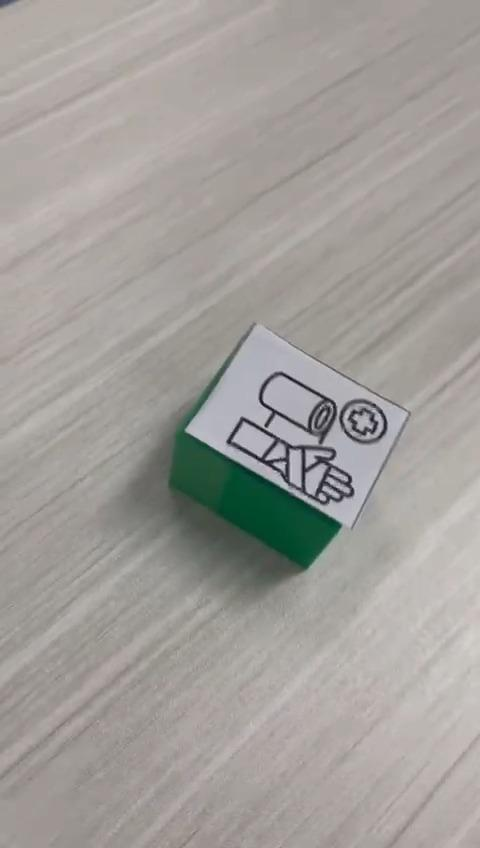Bandages: (168, 320, 410, 570)
